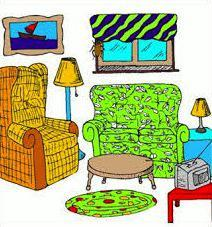boat: (16, 21, 48, 40)
chair: (1, 62, 82, 192)
diningtable: (83, 154, 159, 193)
sofa: (81, 84, 193, 179)
